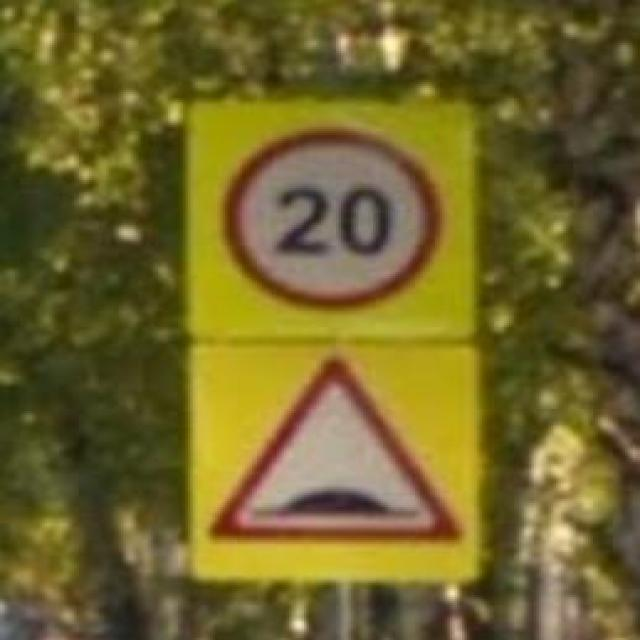traffic_sign: (208, 354, 467, 544), (222, 127, 445, 313)
